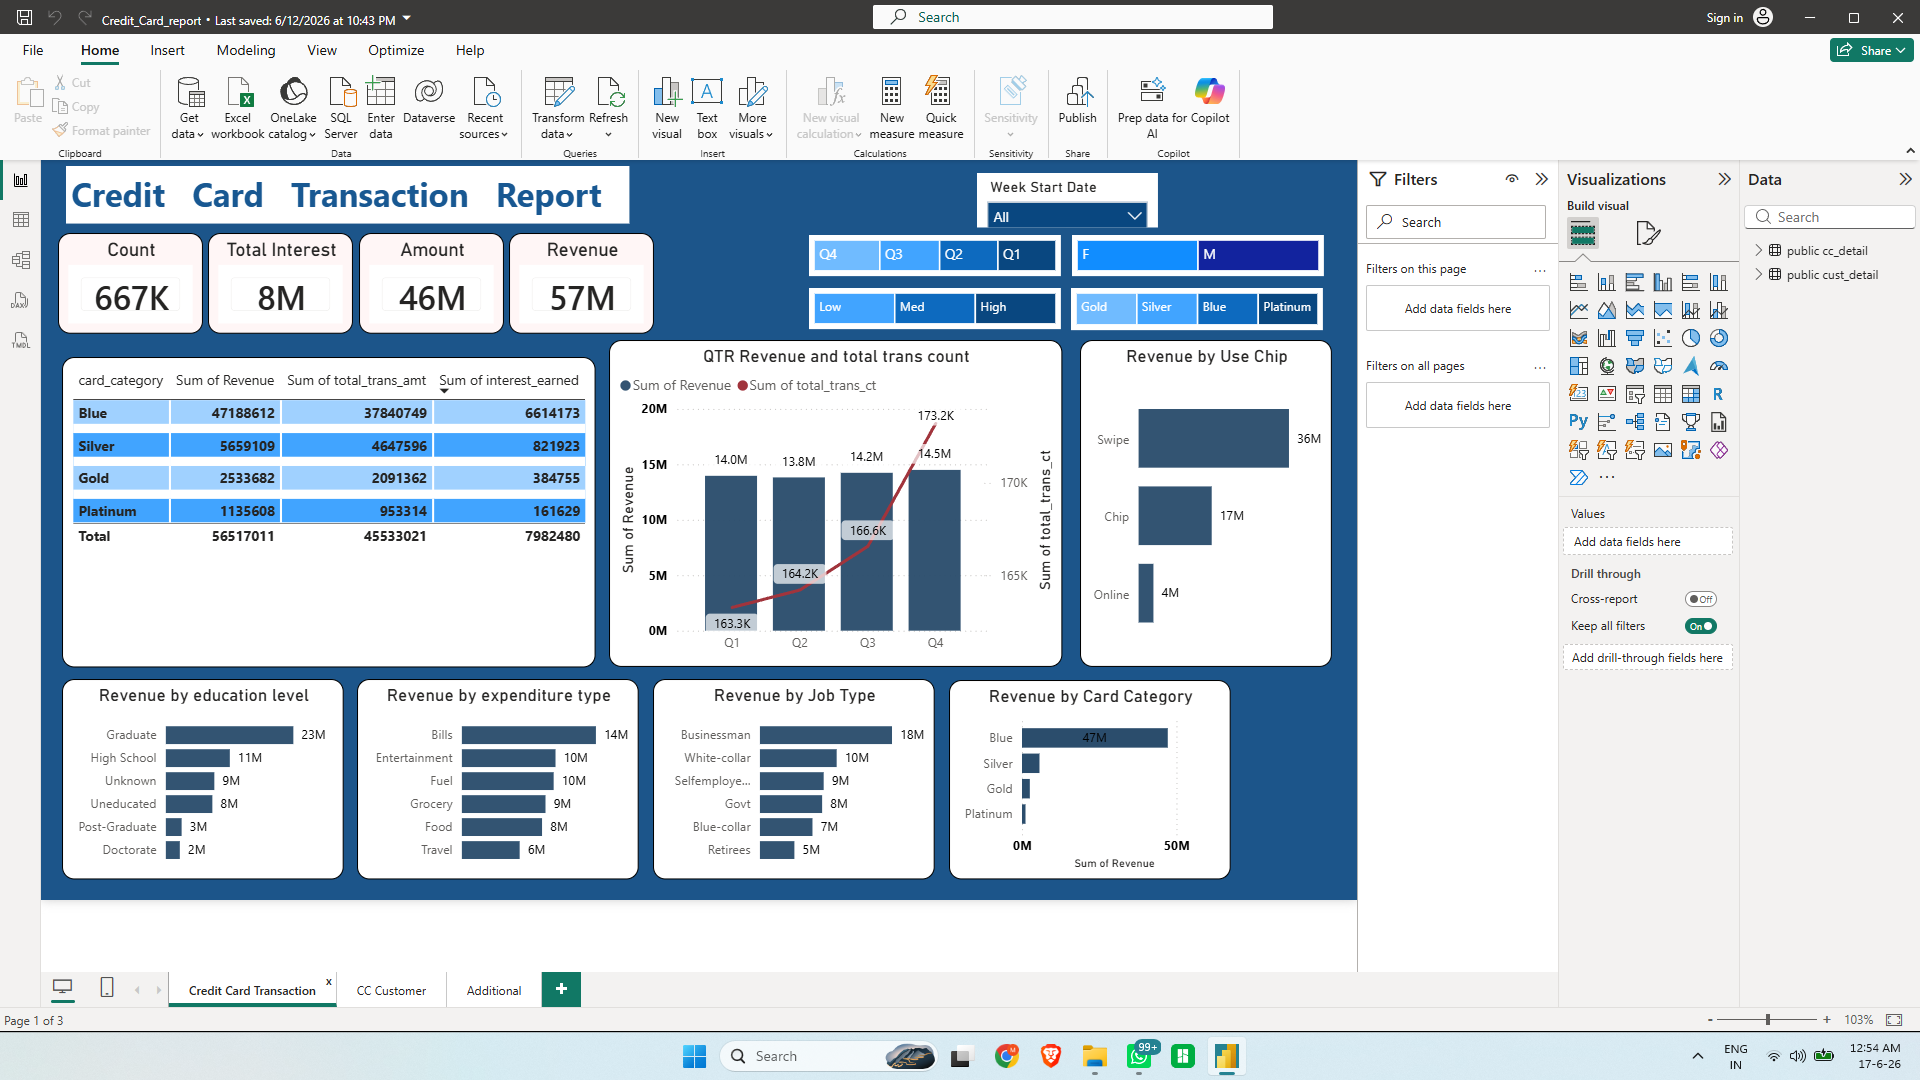

What the dashboard file says about the page in this screenshot:
{"tool":"powerbi","page":{"name":"Credit Card Transaction","canvas":[1280,720],"ordinal":0},"visuals":[{"type":"textbox","box":[24.3,5.8,547.6,56.4],"z":0},{"type":"lineStackedColumnComboChart","title":"QTR Revenue and total trans count","fields":{"Category":["public cc_detail.qtr"],"Y":["Sum(public cc_detail.Revenue)"],"Y2":["Sum(public cc_detail.total_trans_ct)"]},"box":[552.5,175.1,440.6,318.1],"z":1000},{"type":"barChart","title":"Revenue by expenditure type","fields":{"Y":["Sum(public cc_detail.Revenue)"],"Category":["public cc_detail.exp_type"]},"box":[307.4,504.8,274.3,194.5],"z":2000},{"type":"barChart","title":"Revenue by education level","fields":{"Y":["Sum(public cc_detail.Revenue)"],"Category":["public cust_detail.education_level"]},"box":[20.4,504.8,274.3,194.5],"z":3000},{"type":"barChart","title":"Revenue by Job Type","fields":{"Y":["Sum(public cc_detail.Revenue)"],"Category":["public cust_detail.customer_job"]},"box":[595.3,504.8,274.3,194.5],"z":4000},{"type":"barChart","title":"Revenue by Card Category","fields":{"Y":["Sum(public cc_detail.Revenue)"],"Series":["public cc_detail.card_category"],"Category":["public cc_detail.card_category"]},"box":[883.2,505.8,274.3,193.6],"z":5000},{"type":"barChart","title":"Revenue by Use Chip","fields":{"Category":["public cc_detail.use_chip"],"Y":["Sum(public cc_detail.Revenue)"]},"box":[1010.6,175.1,245.1,318.1],"z":6000},{"type":"tableEx","fields":{"Values":["public cc_detail.card_category","Sum(public cc_detail.Revenue)","Sum(public cc_detail.total_trans_amt)","Sum(public cc_detail.interest_earned)"]},"box":[20.4,191.6,519.4,301.5],"z":7000},{"type":"cardVisual","title":"Revenue","fields":{"Data":["Sum(public cc_detail.Revenue)"]},"box":[455.2,71,141,98.2],"z":8000},{"type":"cardVisual","title":"Amount","fields":{"Data":["Sum(public cc_detail.total_trans_amt)"]},"box":[309.3,71,141,98.2],"z":9000},{"type":"cardVisual","title":"Total Interest","fields":{"Data":["Sum(public cc_detail.interest_earned)"]},"box":[162.4,71,141,98.2],"z":10000},{"type":"cardVisual","title":"Count","fields":{"Data":["Sum(public cc_detail.total_trans_ct)"]},"box":[16.5,71,141,98],"z":11000},{"type":"slicer","fields":{"Values":["public cc_detail.week_start_date"]},"box":[910.4,12.6,176,52.5],"z":12000},{"type":"treemap","fields":{"Group":["public cc_detail.qtr"],"Values":["Avg(public cc_detail.client_num)"]},"box":[747,72.9,245.1,39.9],"z":13000},{"type":"treemap","fields":{"Group":["public cust_detail.gender"],"Values":["Avg(public cc_detail.client_num)"]},"box":[1002.8,72.9,245.1,39.9],"z":14000},{"type":"treemap","fields":{"Group":["public cust_detail.IncomeGroup"],"Values":["Avg(public cc_detail.client_num)"]},"box":[747,124.5,245.1,39.9],"z":15000},{"type":"treemap","fields":{"Group":["public cc_detail.card_category"],"Values":["Avg(public cc_detail.client_num)"]},"box":[1001.8,124.5,245.1,40.9],"z":16000}]}

Visuals, with their boxes on the page's 1280x720 design canvas (x1, y1, x2, y2). These are canvas units, not pixel positions in the 1920x1080 screenshot, which may show the page scaled, cropped or inside an application window:
textbox: <region>24, 6, 572, 62</region>
"QTR Revenue and total trans count" lineStackedColumnComboChart: <region>552, 175, 993, 493</region>
"Revenue by expenditure type" barChart: <region>307, 505, 582, 699</region>
"Revenue by education level" barChart: <region>20, 505, 295, 699</region>
"Revenue by Job Type" barChart: <region>595, 505, 870, 699</region>
"Revenue by Card Category" barChart: <region>883, 506, 1158, 699</region>
"Revenue by Use Chip" barChart: <region>1011, 175, 1256, 493</region>
tableEx - public cc_detail.card_category x Sum(public cc_detail.Revenue): <region>20, 192, 540, 493</region>
"Revenue" cardVisual: <region>455, 71, 596, 169</region>
"Amount" cardVisual: <region>309, 71, 450, 169</region>
"Total Interest" cardVisual: <region>162, 71, 303, 169</region>
"Count" cardVisual: <region>16, 71, 158, 169</region>
slicer - public cc_detail.week_start_date: <region>910, 13, 1086, 65</region>
treemap - public cc_detail.qtr x Avg(public cc_detail.client_num): <region>747, 73, 992, 113</region>
treemap - public cust_detail.gender x Avg(public cc_detail.client_num): <region>1003, 73, 1248, 113</region>
treemap - public cust_detail.IncomeGroup x Avg(public cc_detail.client_num): <region>747, 124, 992, 164</region>
treemap - public cc_detail.card_category x Avg(public cc_detail.client_num): <region>1002, 124, 1247, 165</region>
